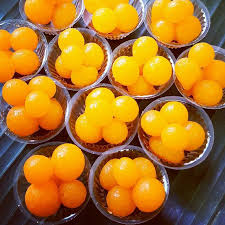tongyod: (15, 149, 89, 221), (99, 156, 165, 213), (2, 77, 65, 132), (148, 100, 200, 161), (76, 92, 136, 142), (175, 42, 223, 104), (112, 35, 166, 87), (55, 28, 103, 81), (148, 1, 203, 43), (17, 179, 63, 218), (129, 173, 167, 216), (9, 28, 45, 73), (47, 139, 85, 179), (17, 153, 54, 184), (19, 91, 55, 120), (83, 98, 115, 127), (109, 55, 139, 85), (112, 4, 144, 31), (89, 9, 115, 34)
